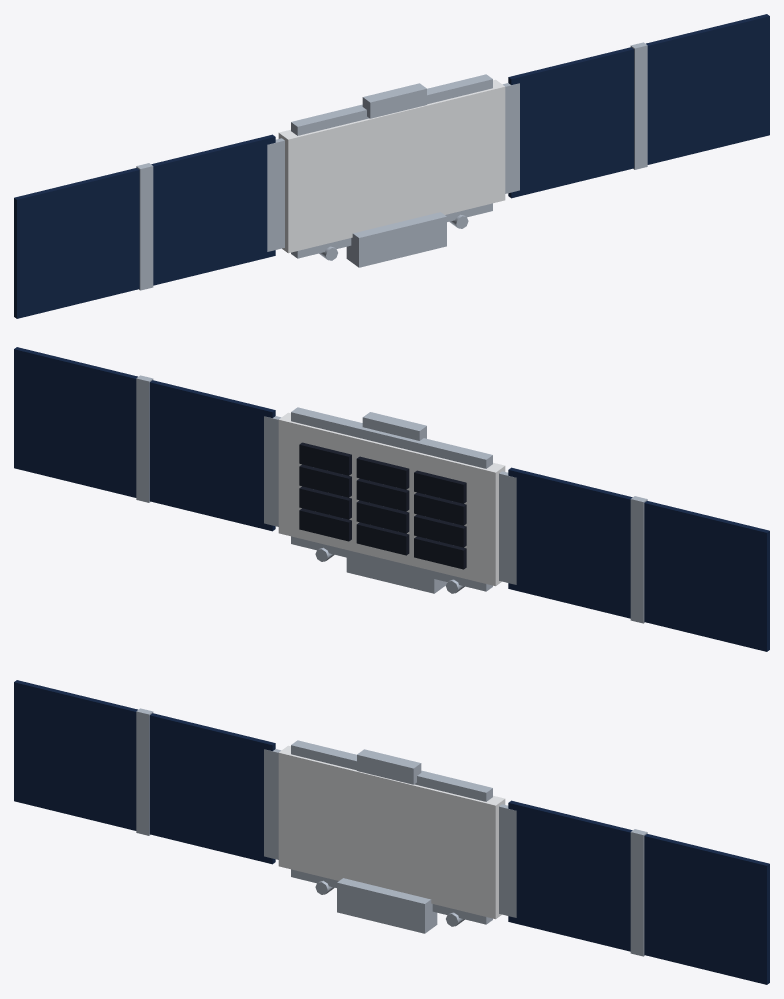
Rendered from starlink-gen2.glb.
The picture shows the model from 3 angles, top to bottom: view 1: azimuth 30°, elevation 25°; view 2: azimuth 150°, elevation 25°; view 3: azimuth 330°, elevation 25°; orthographic projection.
Parts seen in each view (by area): view 1: wing-port-panel, wing-starboard-panel, bus, antenna-bay, bus-rail-top, wing-port-hinge, wing-port-frame, wing-starboard-frame, wing-starboard-hinge, laser-terminal, bus-rail-bottom; view 2: wing-port-panel, wing-starboard-panel, bus, bus-rail-top, wing-port-hinge, wing-port-frame, wing-starboard-frame, wing-starboard-hinge, bus-rail-bottom, antenna-bay, array-1-1, array-0-1 (+11 smaller); view 3: wing-starboard-panel, wing-port-panel, bus, antenna-bay, bus-rail-top, wing-starboard-hinge, wing-starboard-frame, wing-port-frame, wing-port-hinge, laser-terminal, bus-rail-bottom.
Part boxes in pixels (x1,y1,x2,y2): wing-port-panel: (14, 134, 275, 318); wing-starboard-panel: (508, 14, 769, 198); bus: (278, 79, 505, 253); antenna-bay: (346, 212, 446, 267); bus-rail-top: (291, 74, 492, 135); wing-port-hinge: (267, 138, 284, 251); wing-port-frame: (136, 163, 153, 290); wing-starboard-frame: (630, 42, 647, 169); wing-starboard-hinge: (502, 83, 519, 193); laser-terminal: (362, 83, 426, 118); bus-rail-bottom: (291, 203, 492, 258); wing-port-panel: (508, 467, 769, 651); wing-starboard-panel: (14, 347, 275, 531); bus: (278, 412, 505, 586); bus-rail-top: (291, 407, 492, 468); wing-port-hinge: (499, 471, 516, 584); wing-port-frame: (630, 496, 647, 623); wing-starboard-frame: (136, 375, 153, 502); wing-starboard-hinge: (264, 416, 281, 526); bus-rail-bottom: (291, 536, 492, 591); antenna-bay: (346, 557, 446, 593); array-1-1: (356, 500, 409, 533); array-0-1: (356, 522, 409, 555); wing-starboard-panel: (508, 800, 769, 984); wing-port-panel: (14, 680, 275, 864); bus: (278, 745, 505, 919); antenna-bay: (337, 878, 437, 933); bus-rail-top: (291, 740, 492, 801); wing-starboard-hinge: (499, 804, 516, 917); wing-starboard-frame: (630, 829, 647, 956); wing-port-frame: (136, 708, 153, 835); wing-port-hinge: (264, 749, 281, 859); laser-terminal: (357, 749, 421, 784); bus-rail-bottom: (291, 869, 492, 924).
Size of the model in its own units: 14.56 by 2.93 by 0.72.
